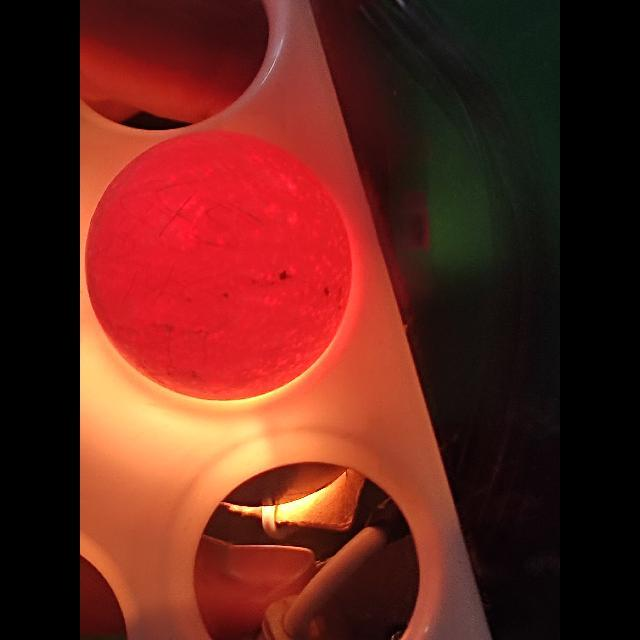Infertile: (89, 130, 359, 402)
